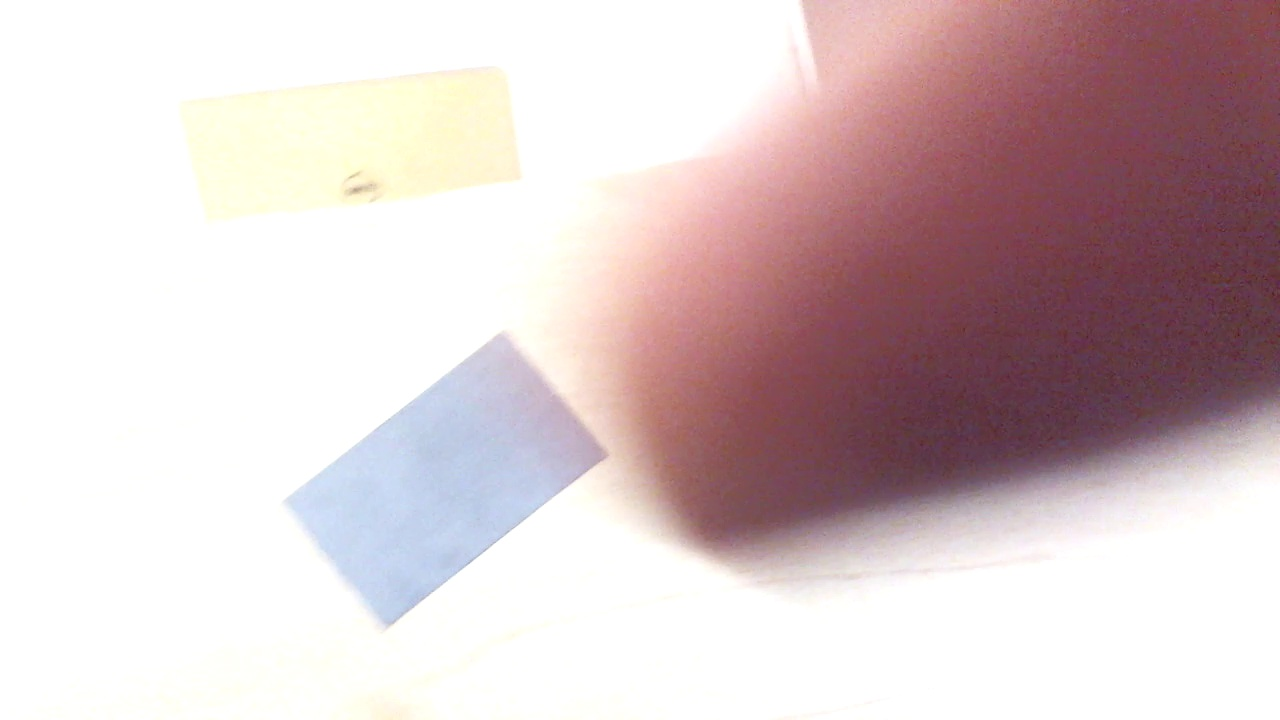Tape: (284, 335, 612, 622)
